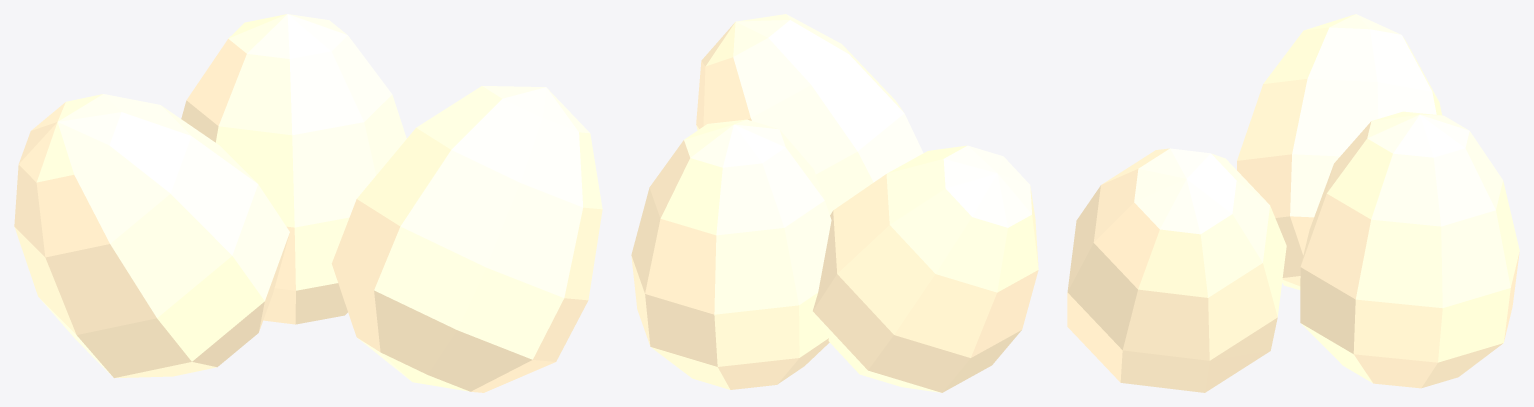
File: OstrichScene.fbx
3 views of the same model, side by side, from view 1: azimuth 30°, elevation 25°; view 2: azimuth 150°, elevation 25°; view 3: azimuth 270°, elevation 25° (orthographic). The views are drawn at different scales.
Visible parts, largest first — view 1: Object_6, Object_6.002, Object_6.001; view 2: Object_6.001, Object_6.002, Object_6; view 3: Object_6.001, Object_6, Object_6.002.
Boxes of the visible parts, x1=… form: Object_6: x1=331, y1=86, x2=602, y2=392; Object_6.002: x1=14, y1=94, x2=289, y2=378; Object_6.001: x1=181, y1=14, x2=406, y2=324; Object_6.001: x1=631, y1=119, x2=831, y2=389; Object_6.002: x1=813, y1=145, x2=1038, y2=392; Object_6: x1=696, y1=14, x2=923, y2=214; Object_6.001: x1=1300, y1=111, x2=1519, y2=388; Object_6: x1=1067, y1=148, x2=1286, y2=392; Object_6.002: x1=1237, y1=14, x2=1441, y2=289.
Bounding box in the file's own units: 34.08 × 20.94 × 32.64.
